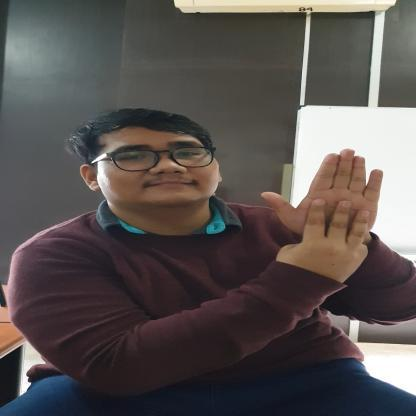M: (258, 147, 388, 264)
